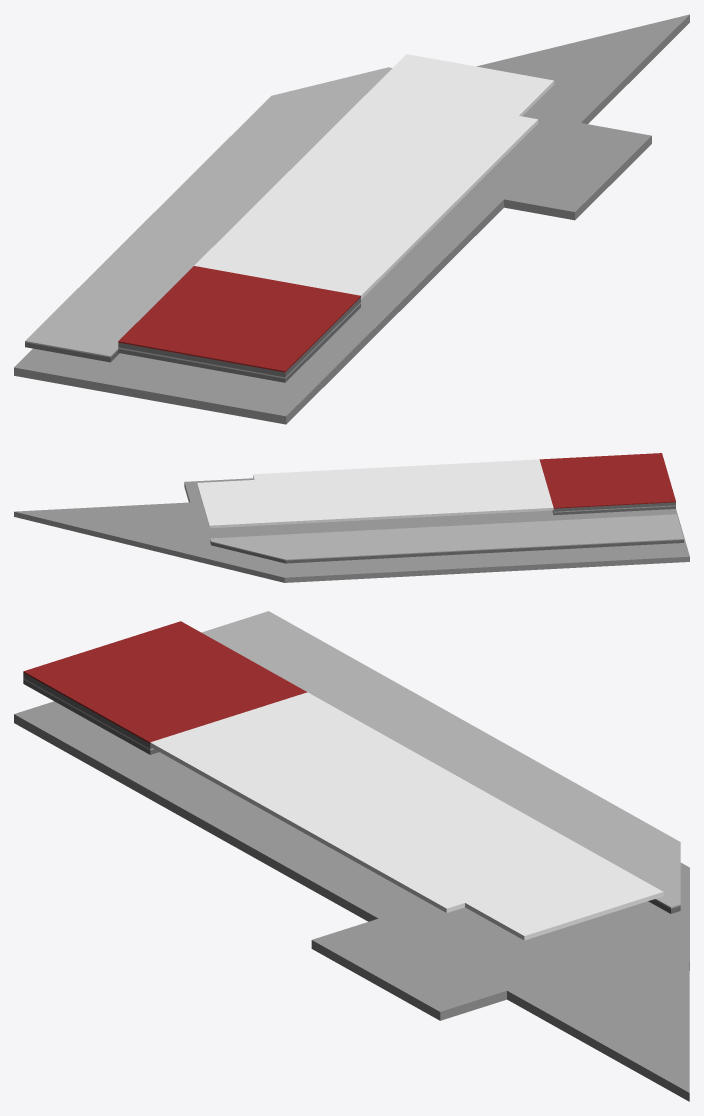
The model's file is rac_basic_sample_project_Level_1_IfcSlab.dae.
The picture shows the model from 3 angles, top to bottom: view 1: azimuth 30°, elevation 25°; view 2: azimuth 150°, elevation 25°; view 3: azimuth 270°, elevation 25°; orthographic projection. The views are drawn at different scales.
Visible parts, largest first — view 1: 0WFFycJ9rEj9FbADAA0q3o, 1ypci01sD9aQpE0S$W9jFF, 1cCK8nA61FduUezO75i8dB, 0NWseyvsH7_gBW225aGtZP; view 2: 1ypci01sD9aQpE0S$W9jFF, 0WFFycJ9rEj9FbADAA0q3o, 1cCK8nA61FduUezO75i8dB, 0NWseyvsH7_gBW225aGtZP; view 3: 1ypci01sD9aQpE0S$W9jFF, 0WFFycJ9rEj9FbADAA0q3o, 1cCK8nA61FduUezO75i8dB, 0NWseyvsH7_gBW225aGtZP.
Part boxes in pixels (x1,y1,x2,y2): 0WFFycJ9rEj9FbADAA0q3o: [194, 54, 554, 299]; 1ypci01sD9aQpE0S$W9jFF: [14, 14, 689, 424]; 1cCK8nA61FduUezO75i8dB: [25, 67, 392, 362]; 0NWseyvsH7_gBW225aGtZP: [118, 266, 360, 382]; 1ypci01sD9aQpE0S$W9jFF: [14, 478, 689, 582]; 0WFFycJ9rEj9FbADAA0q3o: [197, 459, 553, 528]; 1cCK8nA61FduUezO75i8dB: [210, 514, 683, 563]; 0NWseyvsH7_gBW225aGtZP: [539, 453, 675, 515]; 1ypci01sD9aQpE0S$W9jFF: [14, 701, 689, 1101]; 0WFFycJ9rEj9FbADAA0q3o: [150, 692, 663, 940]; 1cCK8nA61FduUezO75i8dB: [201, 611, 680, 913]; 0NWseyvsH7_gBW225aGtZP: [23, 621, 307, 754].
Bounding box in the file's own units: 33.17 × 20.58 × 1.8.
